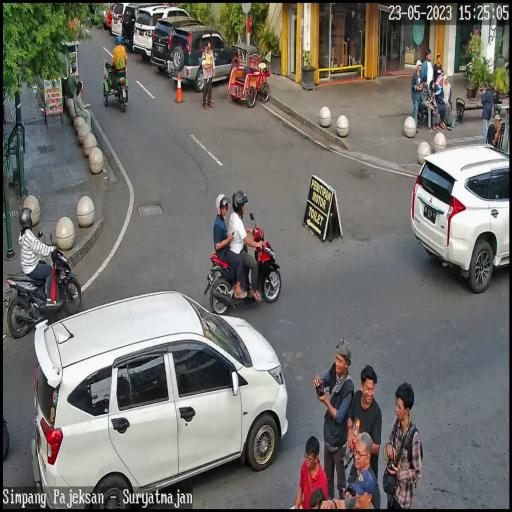mobil: (22, 290, 285, 501), (408, 141, 511, 280), (168, 26, 232, 89), (133, 4, 194, 65), (152, 14, 208, 74)
motor: (0, 236, 85, 336), (202, 218, 281, 305)
